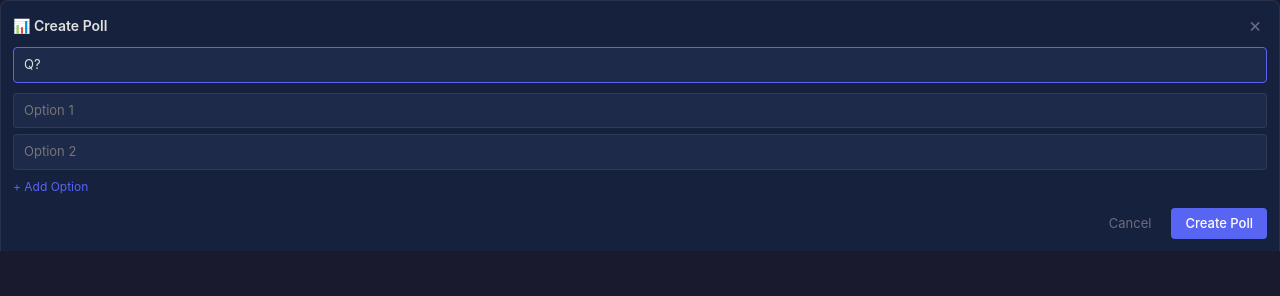
Test: PollForm › shows error on API failure
Type "A" into the field with placeholder "Option 1" at (640, 110), box [13,92,1267,128]
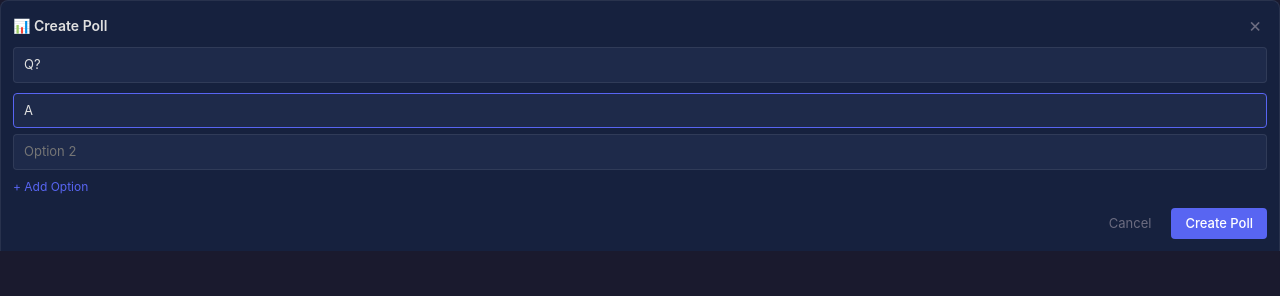
Type "B" into the field with placeholder "Option 2" at (640, 152), box [13,134,1267,170]
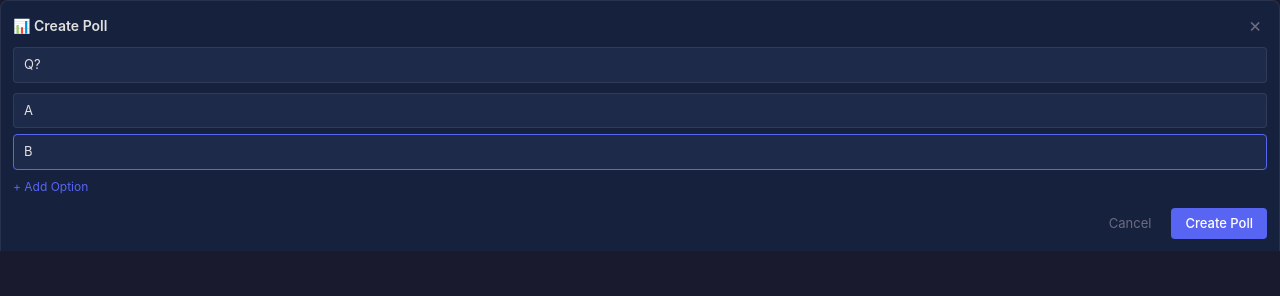
Click the button "Create Poll" at (1219, 223), box [1172,208,1267,239]
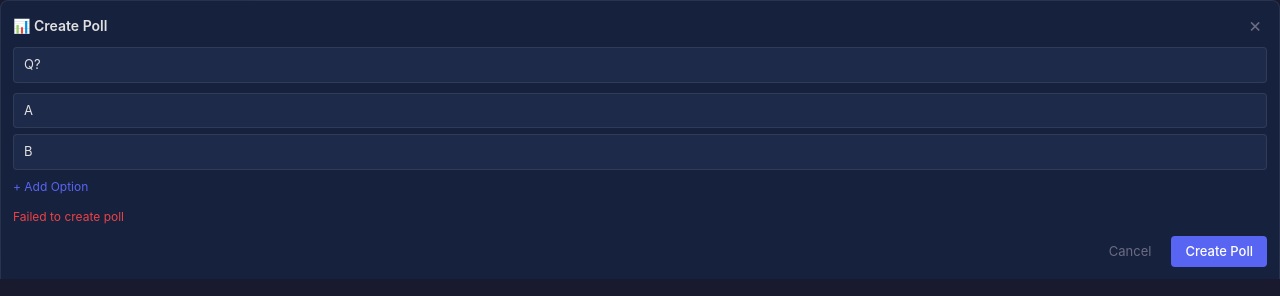
expect the text "Failed to create poll" is shown: met, box [13,208,124,224]
